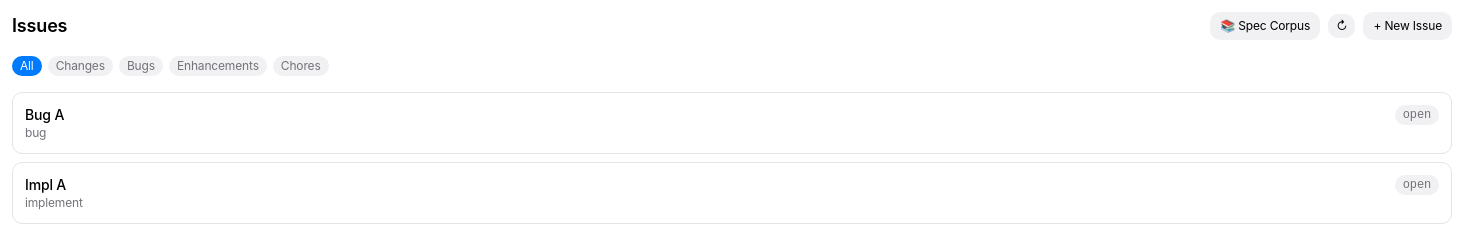
Test: IssueListScreen › type filter narrows the list
The image size is (1464, 241).
Click the button "Bugs".
click(141, 66)  # box [119,56,163,76]
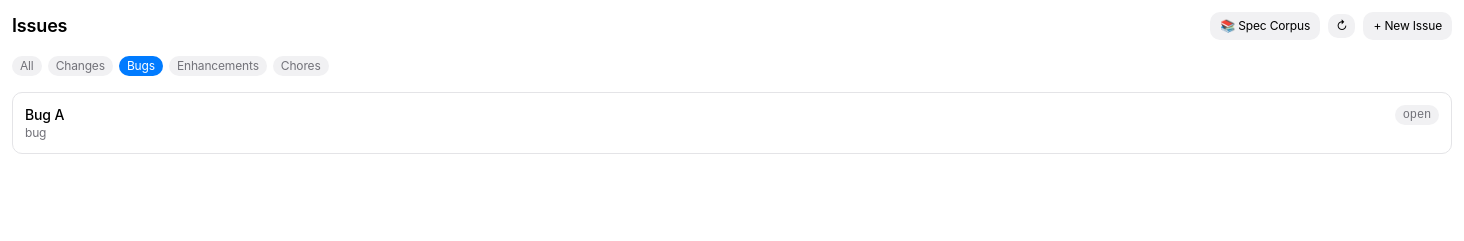
Check: the text "Bug A" is shown, box [25,105,64,125]
Check: the text "Impl A" is gone
